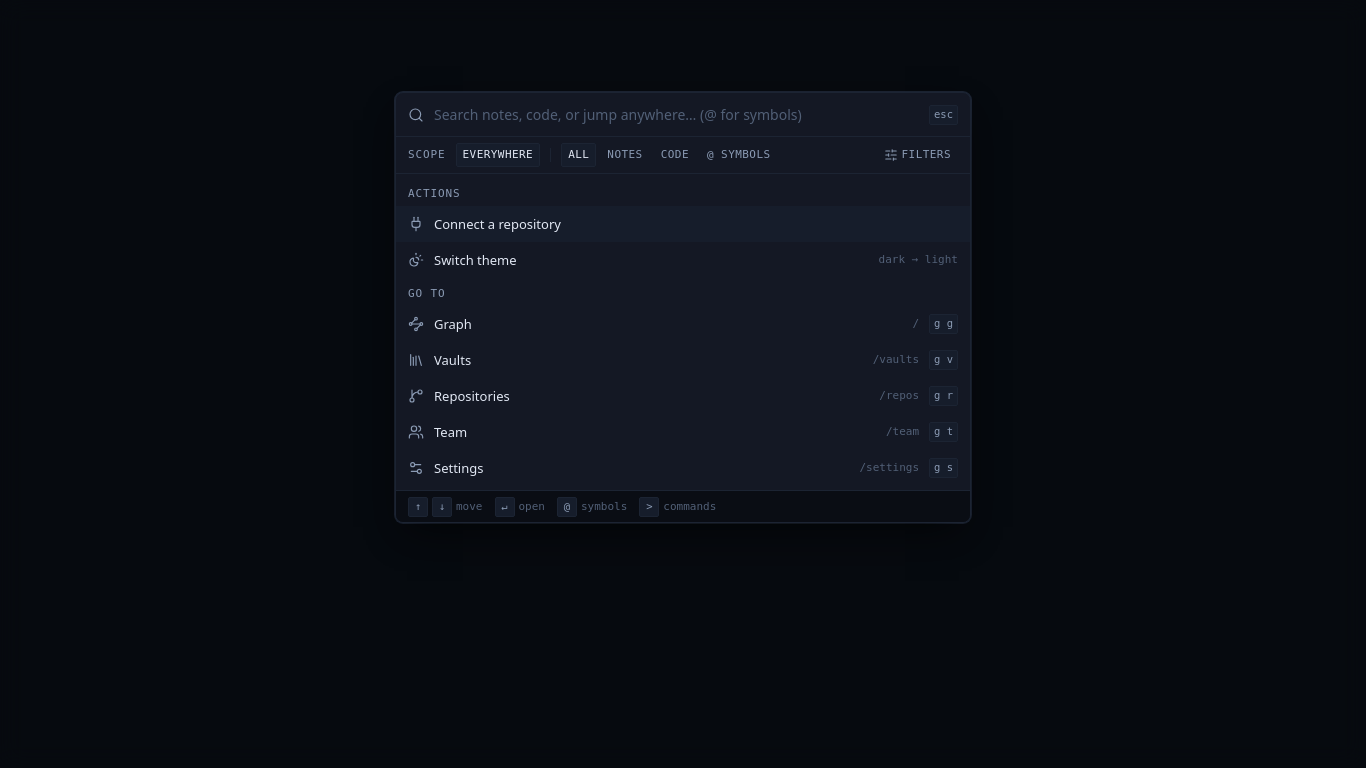
Test case: SearchOverlay › renders an alert with a retry button on search failure, never the empty state
The image size is (1366, 768).
In the dropdown with placeholder "Search notes, code, or jump anywhere… (@ for symbols)": (676, 115) [434,93,919,136], type "jane"
Wait 300 ms
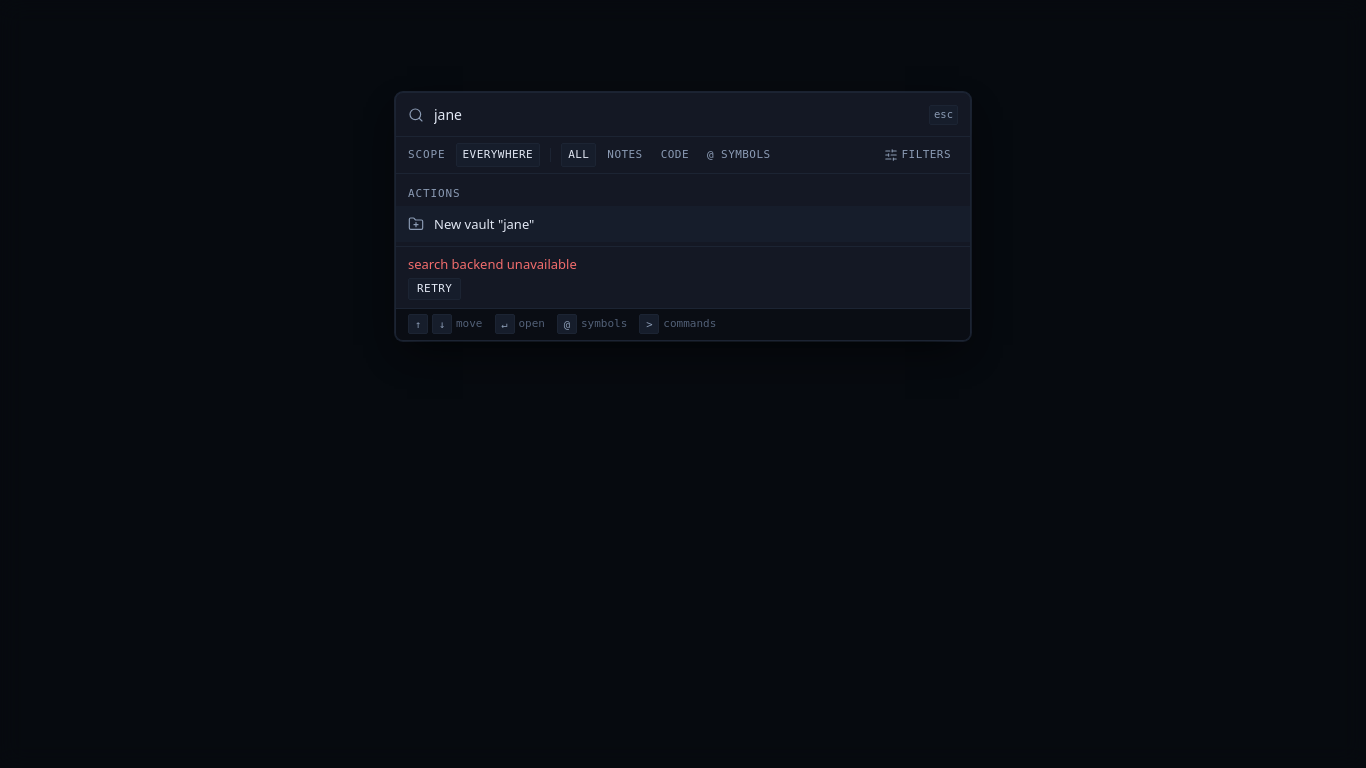
Check: the message "search backend unavailable Retry" is shown, box [396,246,970,308]
Check: the text "search backend unavailable" is shown, box [408,255,577,273]
Check: the button "Retry" is shown, box [408,278,461,300]
